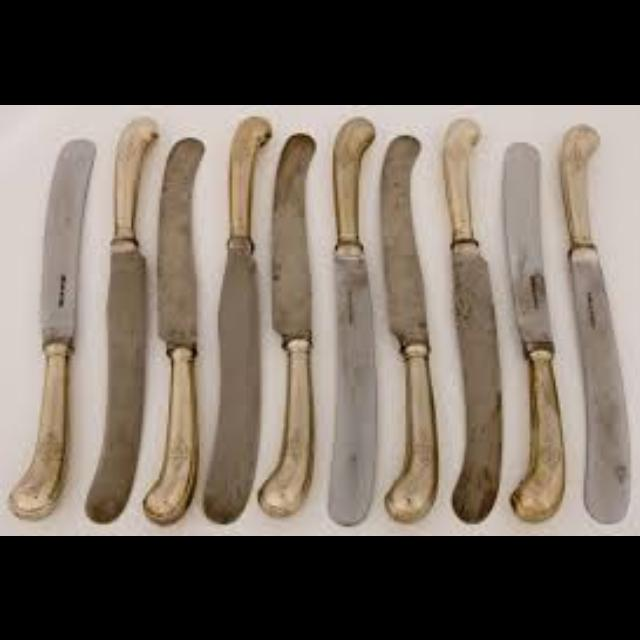knife: (8, 137, 96, 519), (82, 116, 158, 522), (558, 121, 630, 521), (202, 113, 272, 520), (441, 116, 501, 522), (140, 135, 203, 521), (502, 140, 564, 518), (380, 133, 438, 522), (256, 130, 314, 516), (326, 114, 374, 524)
